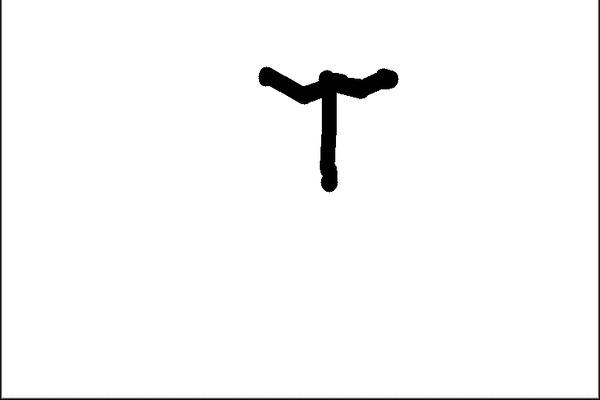T: (254, 54, 405, 197)
